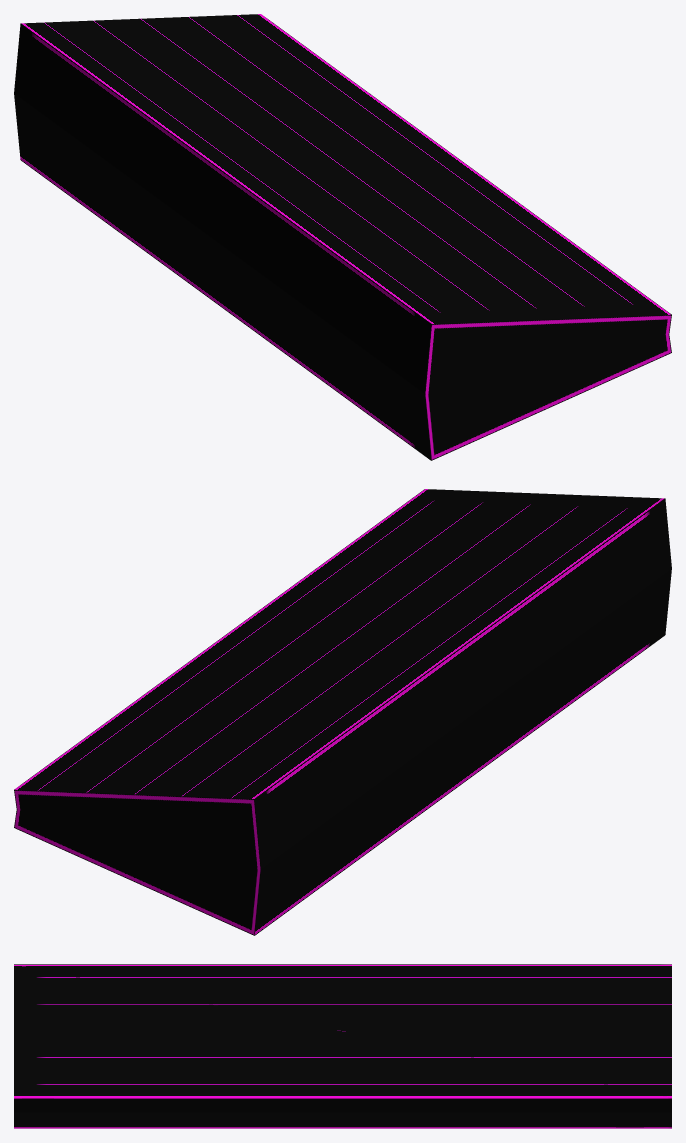
File: block03.fbx
3 renders of one model, top to bottom at view 1: azimuth 30°, elevation 25°; view 2: azimuth 150°, elevation 25°; view 3: azimuth 270°, elevation 25°, orthographic. The views are drawn at different scales.
Visible parts, largest first — view 1: block03; view 2: block03; view 3: block03.
Boxes of the visible parts, x1,y1,x2,y2 form: block03: [14, 14, 671, 460]; block03: [14, 489, 671, 935]; block03: [14, 964, 671, 1128].
Bounding box in the file's own units: 6.87 × 3.63 × 19.77.
1 material, 1 textured.
